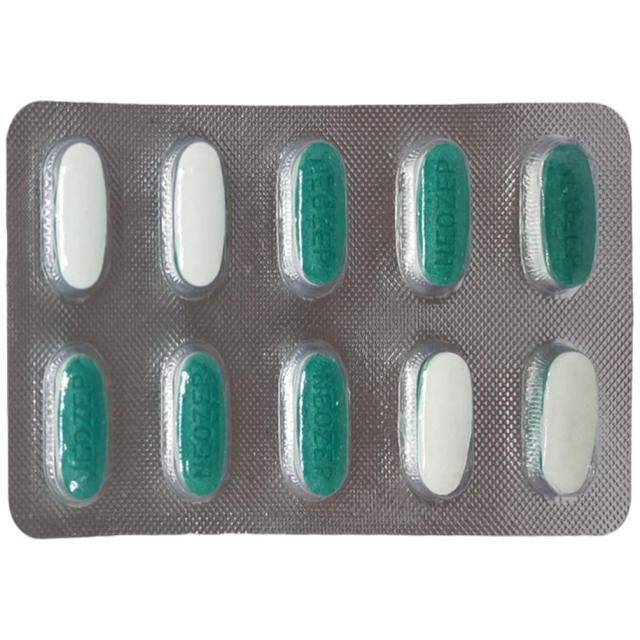blister: (4, 94, 636, 551)
